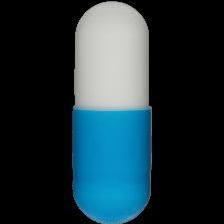50090-0596: (0, 0, 224, 224)
